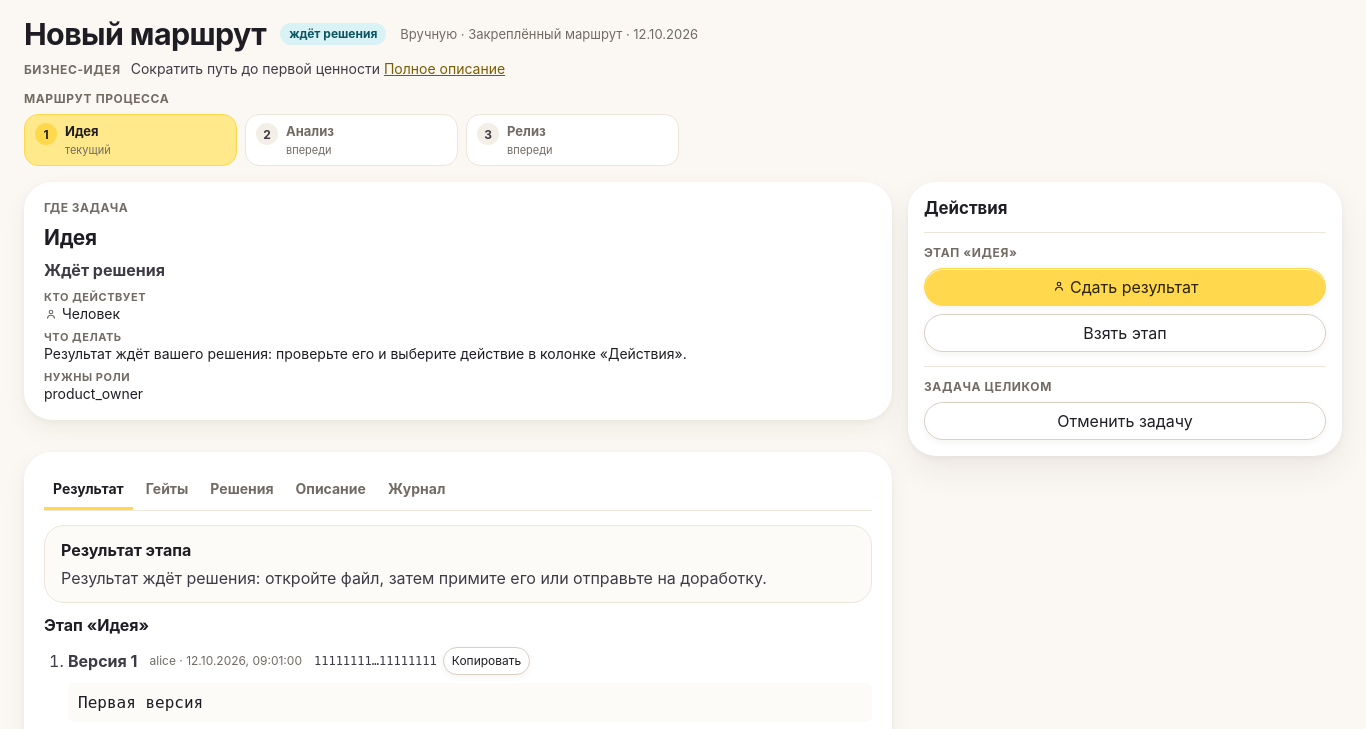
Task detail › does not turn a scheme-only external link into a clickable link
This screenshot has width=1366, height=729.
Click the button "Полное описание".
click(444, 69)  # box left=384, top=60, right=505, bottom=78
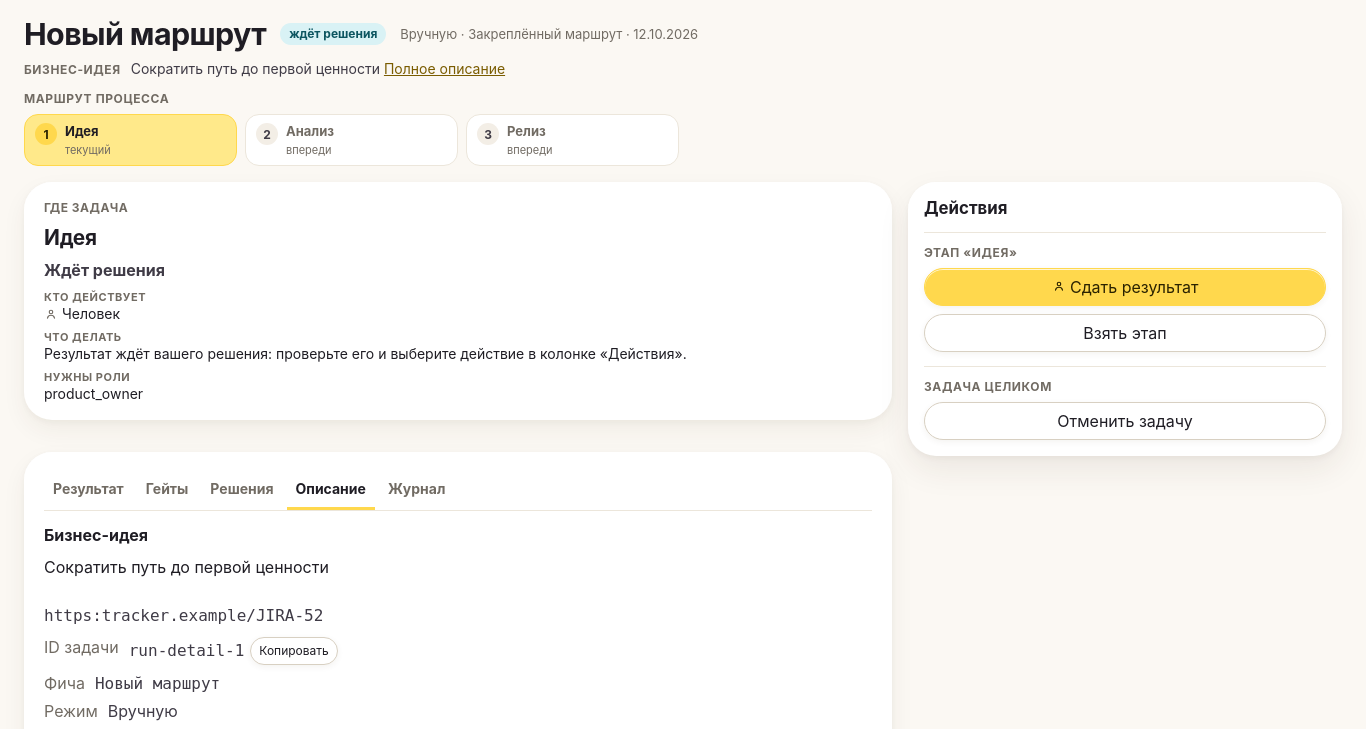
Expected: the text "https:tracker.example/JIRA-52" is shown, left=44, top=606, right=323, bottom=625
